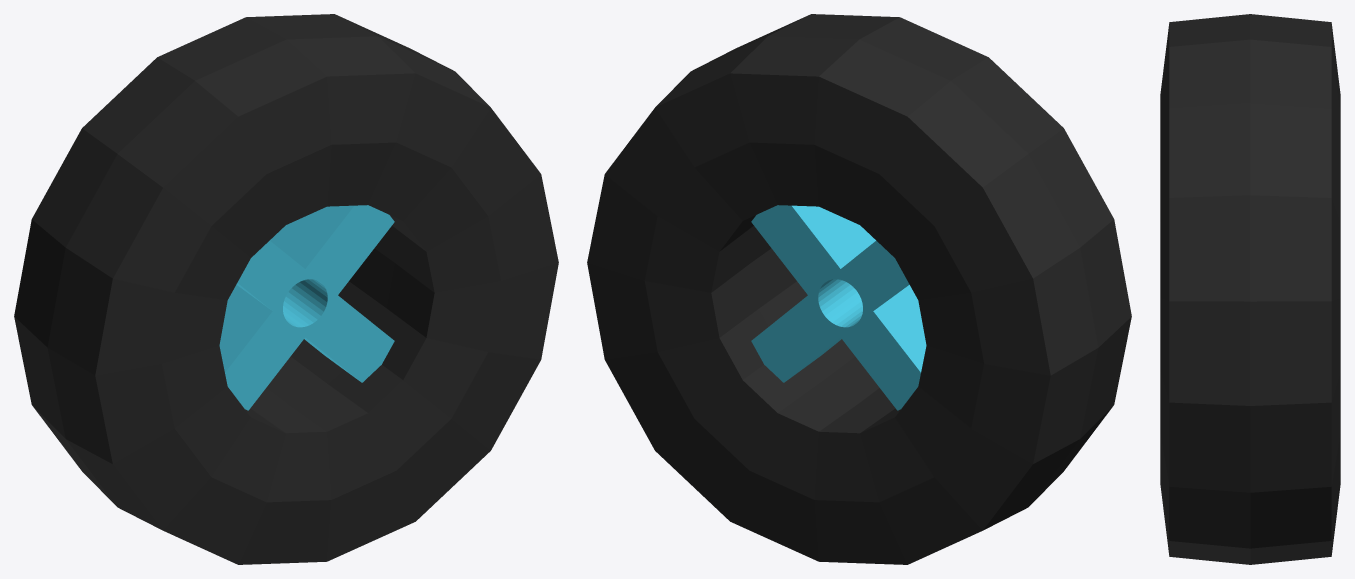
File: weel.fbx
The picture shows the model from 3 angles, left to right: view 1: azimuth 30°, elevation 25°; view 2: azimuth 150°, elevation 25°; view 3: azimuth 270°, elevation 25°; orthographic projection.
Parts seen in each view (by area): view 1: Weel; view 2: Weel; view 3: Weel.
Boxes of the visible parts, x1,y1,x2,y2 form: Weel: (14,14,558,564); Weel: (587,14,1131,564); Weel: (1160,14,1340,564).
Size of the model in its own units: 223 by 223 by 72.8.
